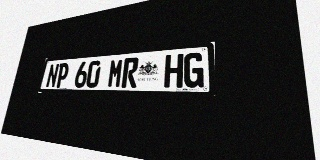0: (85, 60, 101, 88)
6: (74, 61, 89, 88)
G: (183, 52, 204, 88)
H: (164, 54, 184, 88)
M: (107, 58, 124, 88)
N: (45, 63, 60, 88)
P: (55, 63, 70, 88)
R: (121, 57, 139, 88)
